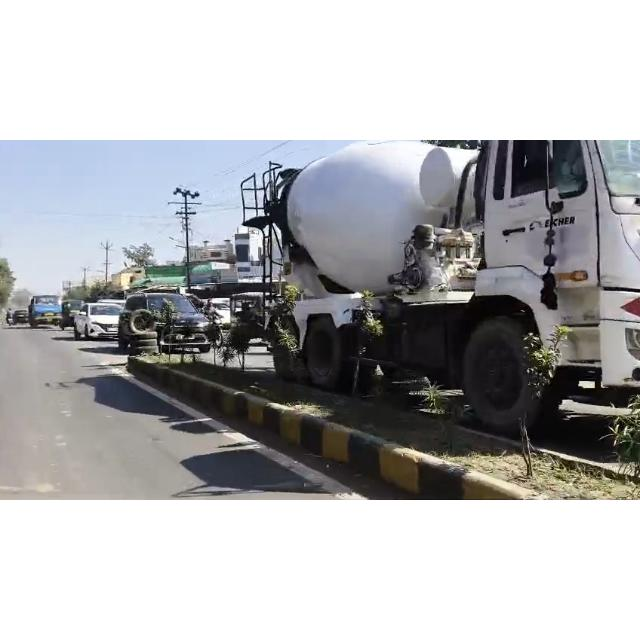car: (118, 294, 225, 354), (72, 300, 129, 340)
truck: (239, 140, 640, 430), (30, 299, 64, 327)
